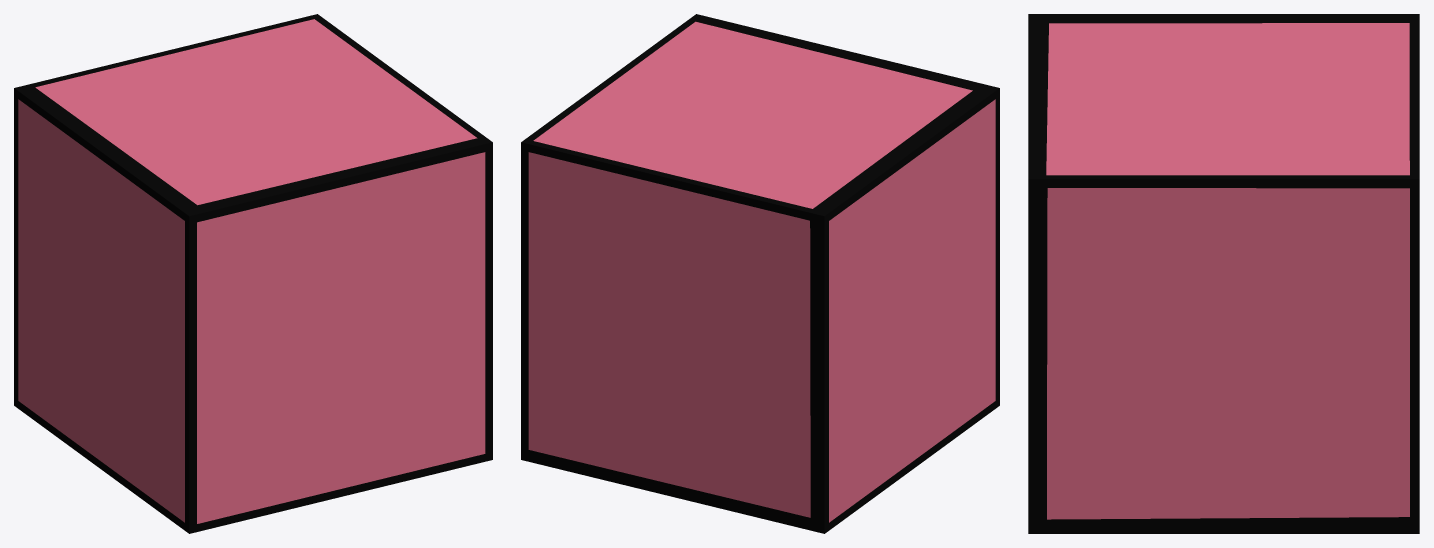
Rendered from pinkCube.glb.
3 views of the same model, side by side, from view 1: azimuth 30°, elevation 25°; view 2: azimuth 150°, elevation 25°; view 3: azimuth 270°, elevation 25° (orthographic). The views are drawn at different scales.
Visible parts, largest first — view 1: Cube; view 2: Cube; view 3: Cube.
Part boxes in pixels (left/top/right/bottom): Cube: left=14, top=14, right=492, bottom=533; Cube: left=521, top=14, right=999, bottom=533; Cube: left=1028, top=14, right=1419, bottom=533.
Size of the model in its own units: 2 by 2 by 2.
